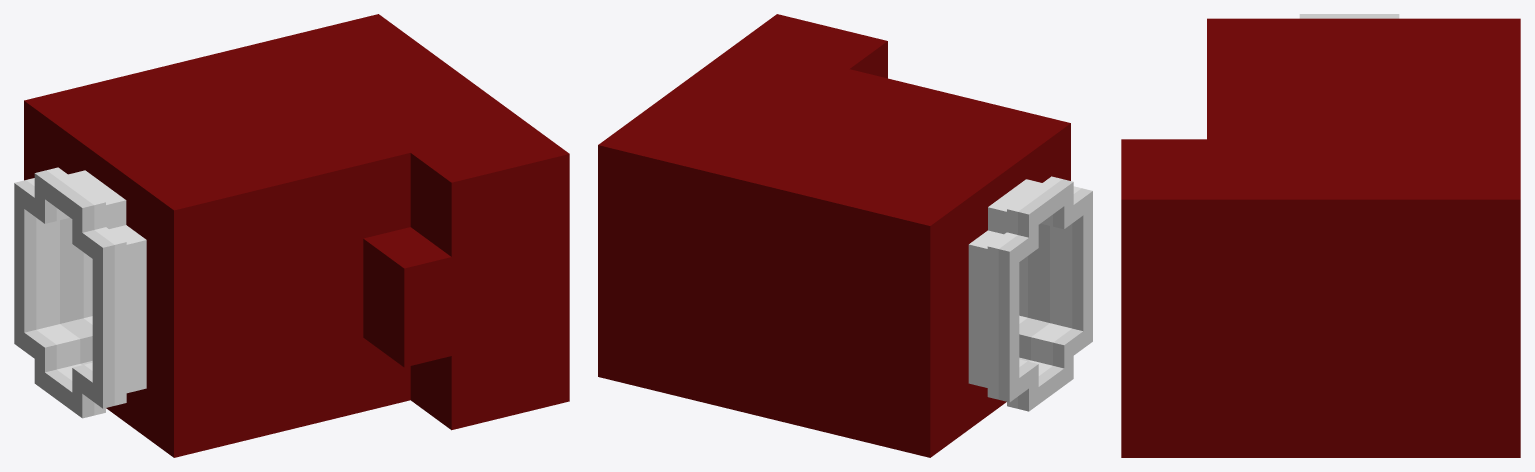
File: ship tunnels.obj
The picture shows the model from 3 angles, left to right: view 1: azimuth 30°, elevation 25°; view 2: azimuth 150°, elevation 25°; view 3: azimuth 270°, elevation 25°; orthographic projection. The views are drawn at different scales.
Bounding box in the file's own units: 68 × 40 × 56.
1 material, 1 textured.
